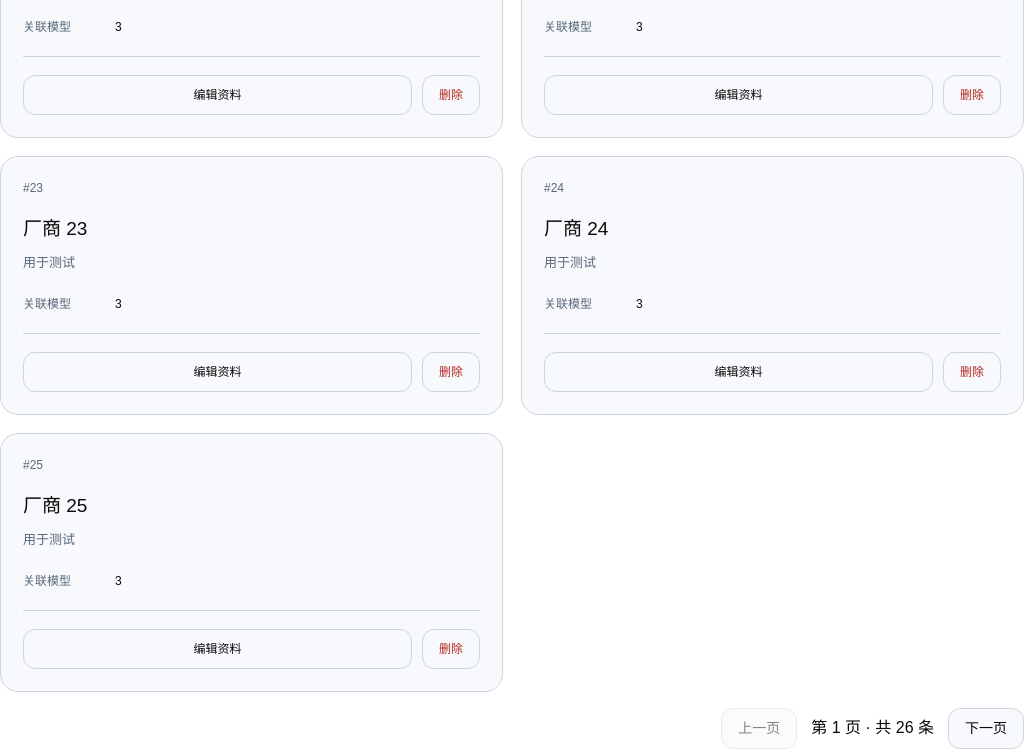
Test: further-api administration records › paginates a complete vendor list without repeating the first page
(page scrolled)
Expected: the heading "厂商 26" is not shown
Click the button "下一页" at [986, 728], box [948,708,1024,748]
(page scrolled)
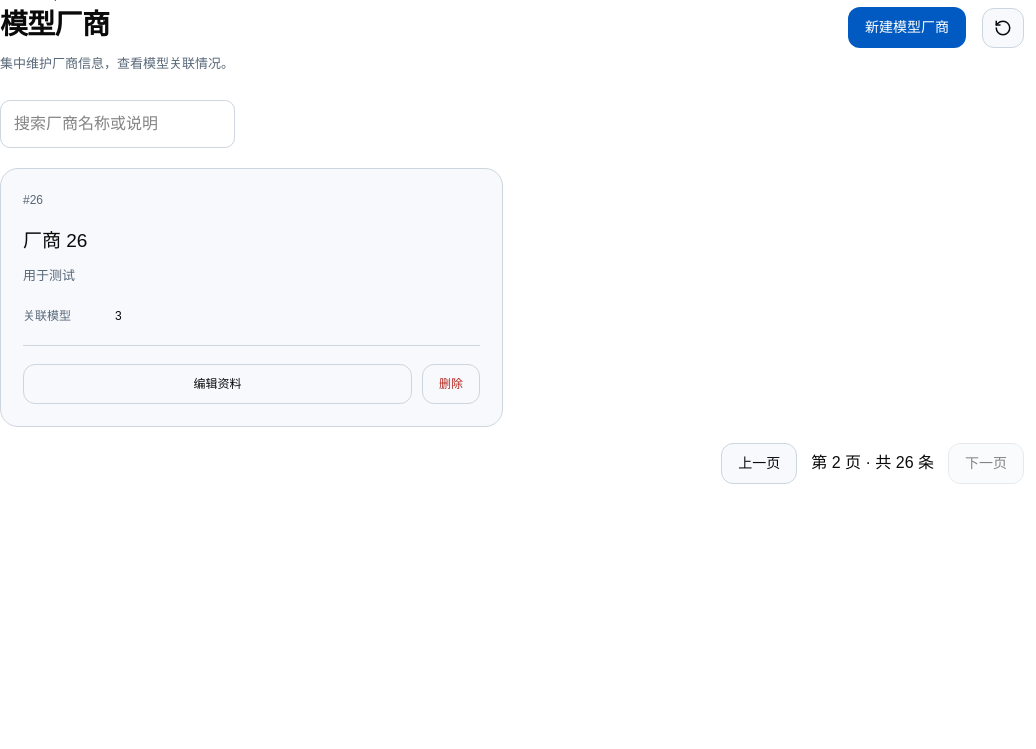
Now the heading "厂商 26" is shown, box [23,230,87,251]
